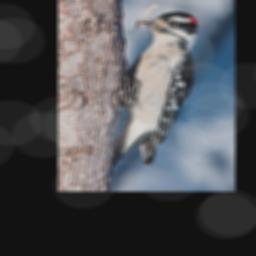Woodpecker: (115, 11, 198, 167)
